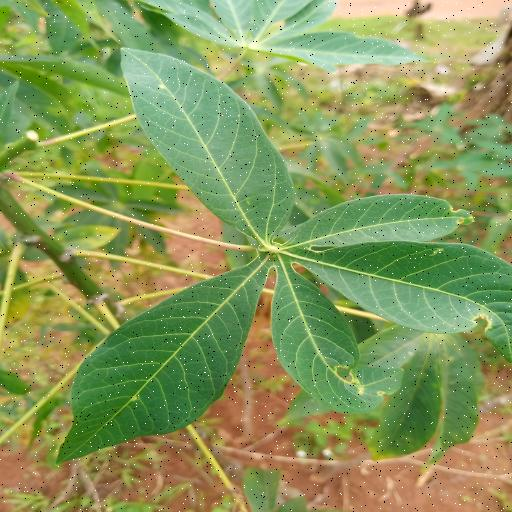Cassava_Mosaic: (40, 43, 512, 474)
